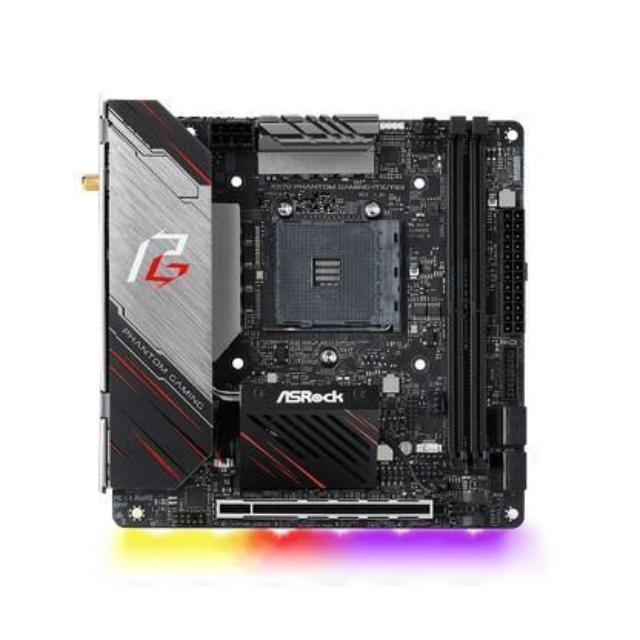Mainboard: (82, 89, 528, 546)
